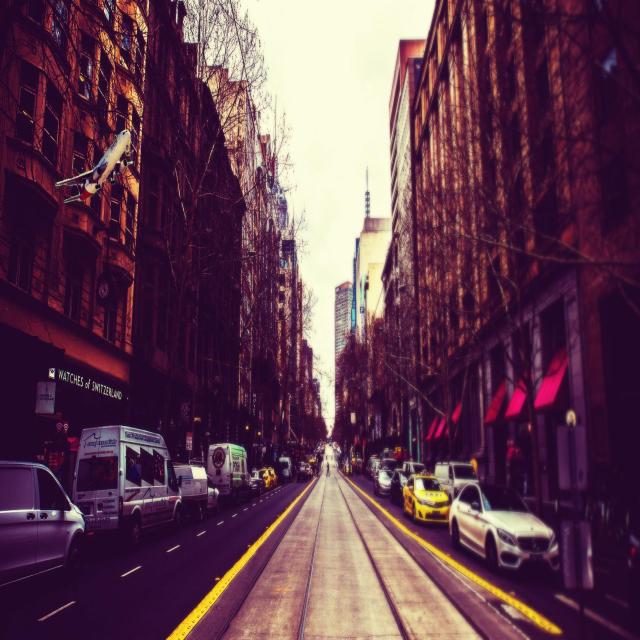airplane: (54, 127, 134, 207)
